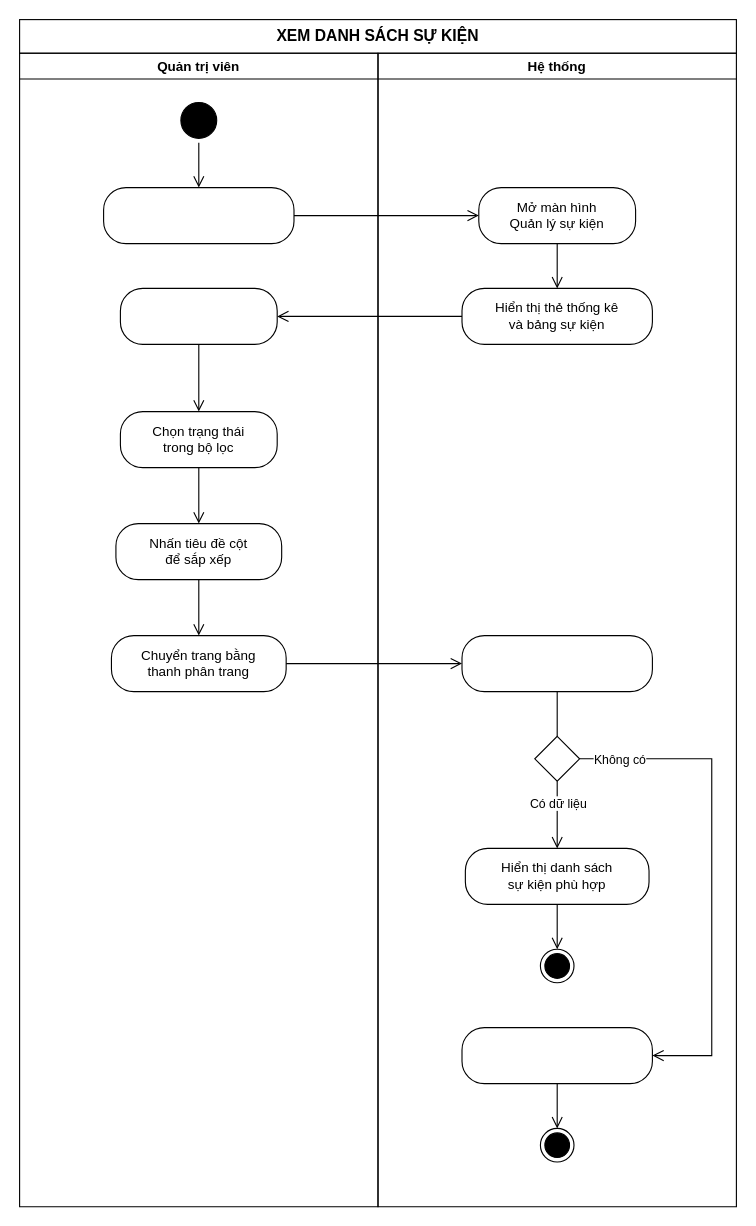
The diagram is 756 pixels wide and 1226 high, and some of its shapes have lost their labels. The shapes that lost their labels are listed below. From the top down, each one's centre as x and y in pixels, then its label:
At [198,215]: "Chọn mục Sự kiện trên thanh điều hướng".
At [198,315]: "Nhập từ khóa để tìm theo tên".
At [556,663]: "Áp dụng tìm kiếm, lọc, sắp xếp, phân trang".
At [556,1055]: "Hiển thị Không tìm thấy sự kiện".
